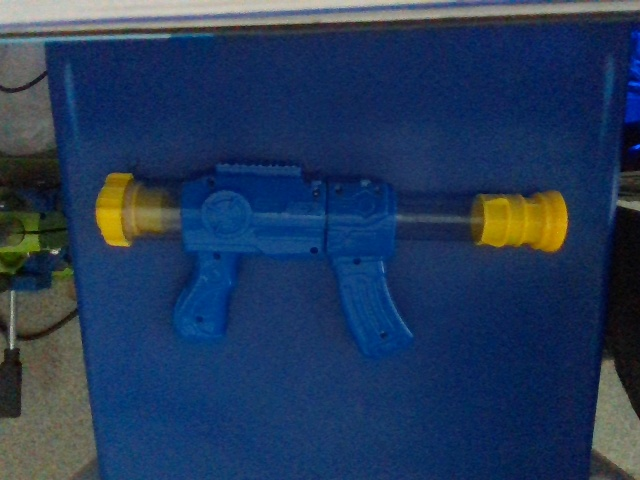screw hole: (206, 177, 216, 188), (334, 184, 344, 195), (373, 185, 384, 195), (212, 251, 221, 261), (352, 257, 362, 266), (195, 315, 204, 324), (310, 246, 319, 255), (379, 331, 389, 339), (312, 188, 320, 197)
toy: (94, 158, 568, 359)
